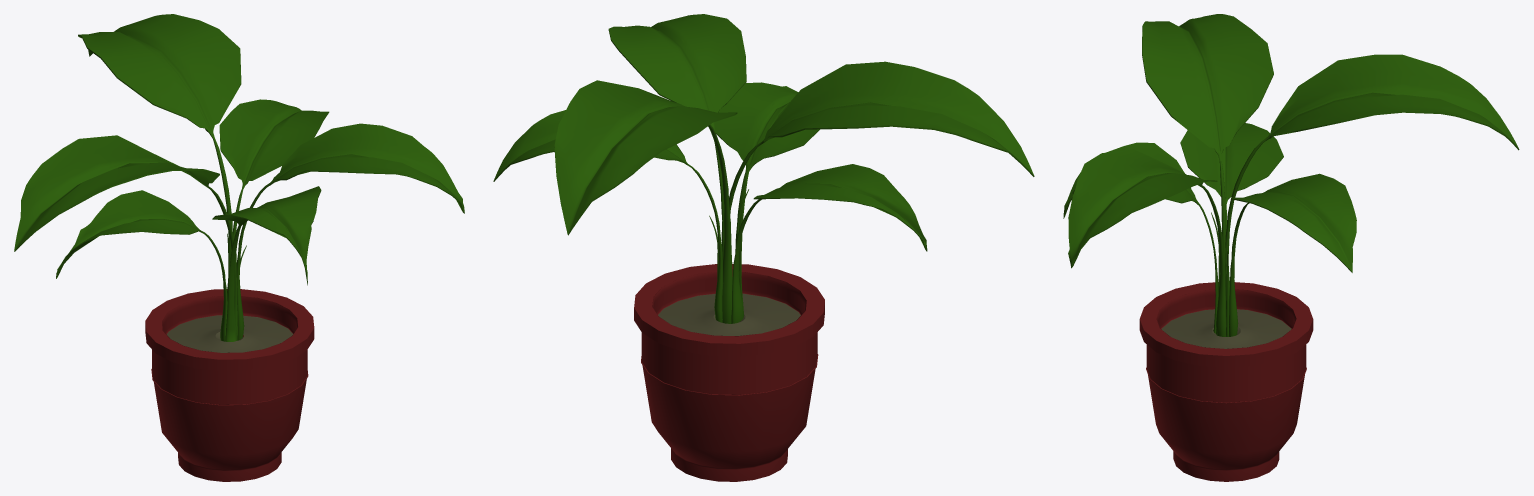
The model's file is potted_plant_839868.glb.
The picture shows the model from 3 angles, left to right: view 1: azimuth 30°, elevation 25°; view 2: azimuth 150°, elevation 25°; view 3: azimuth 270°, elevation 25°; orthographic projection. The views are drawn at different scales.
Visible parts, largest first — view 1: polySurface7, pCylinder1; view 2: polySurface7, pCylinder1; view 3: polySurface7, pCylinder1.
Boxes of the visible parts, x1,y1,x2,y2 form: polySurface7: [14, 14, 464, 341]; pCylinder1: [145, 289, 314, 481]; polySurface7: [493, 14, 1034, 323]; pCylinder1: [634, 264, 824, 481]; polySurface7: [1063, 14, 1519, 336]; pCylinder1: [1139, 282, 1313, 481].
Size of the model in its own units: 17.51 by 15.1 by 16.6.
Materials: 3 (1 with a texture image).
